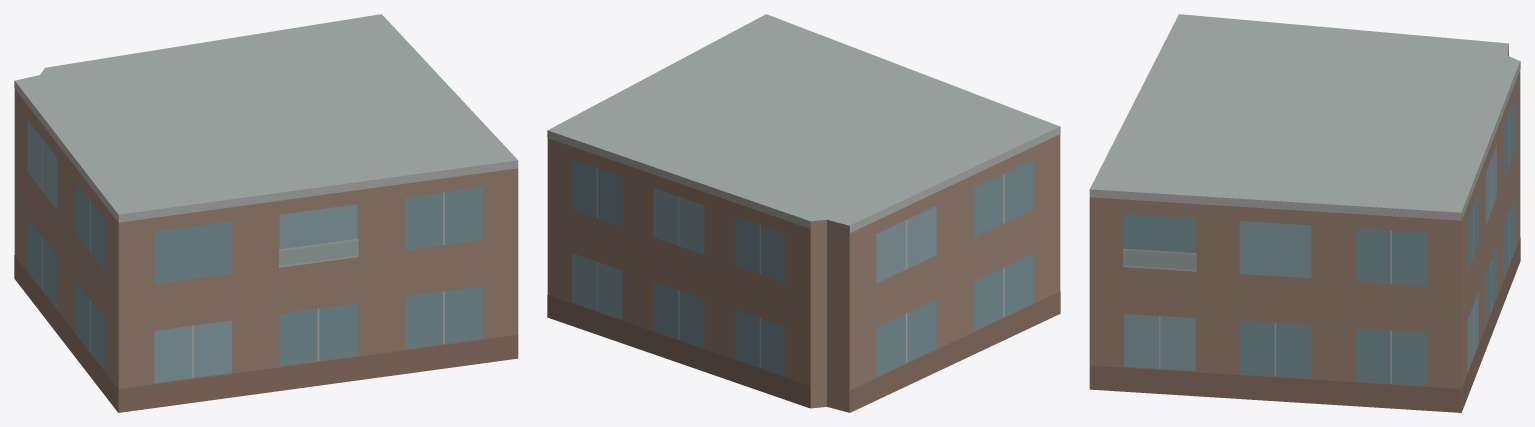
The model's file is survey-upis-32661115.glb.
3 renders of one model, left to right at view 1: azimuth 30°, elevation 25°; view 2: azimuth 150°, elevation 25°; view 3: azimuth 270°, elevation 25°, orthographic. The views are drawn at different scales.
Visible parts, largest first — view 1: survey-upis-32661115.tmp; view 2: survey-upis-32661115.tmp; view 3: survey-upis-32661115.tmp.
Boxes of the visible parts, x1,y1,x2,y2 form: survey-upis-32661115.tmp: (14, 14, 518, 412); survey-upis-32661115.tmp: (547, 14, 1060, 412); survey-upis-32661115.tmp: (1089, 14, 1520, 412).
Bounding box in the file's own units: 13 × 6.1 × 11.91.
